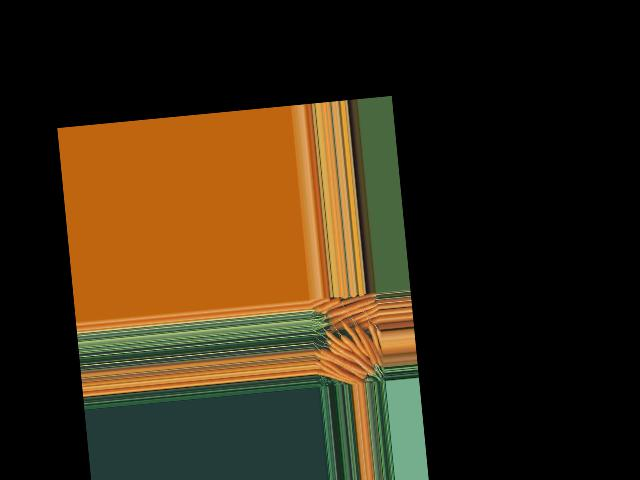carrot: (359, 325, 381, 366)
